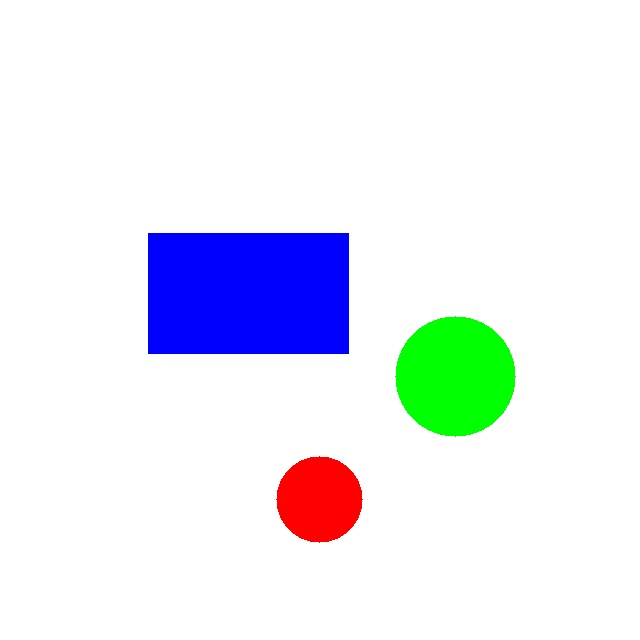cartao: (148, 233, 348, 353)
rosca_externa: (395, 316, 515, 436)
rosca_interna: (276, 456, 362, 542)
